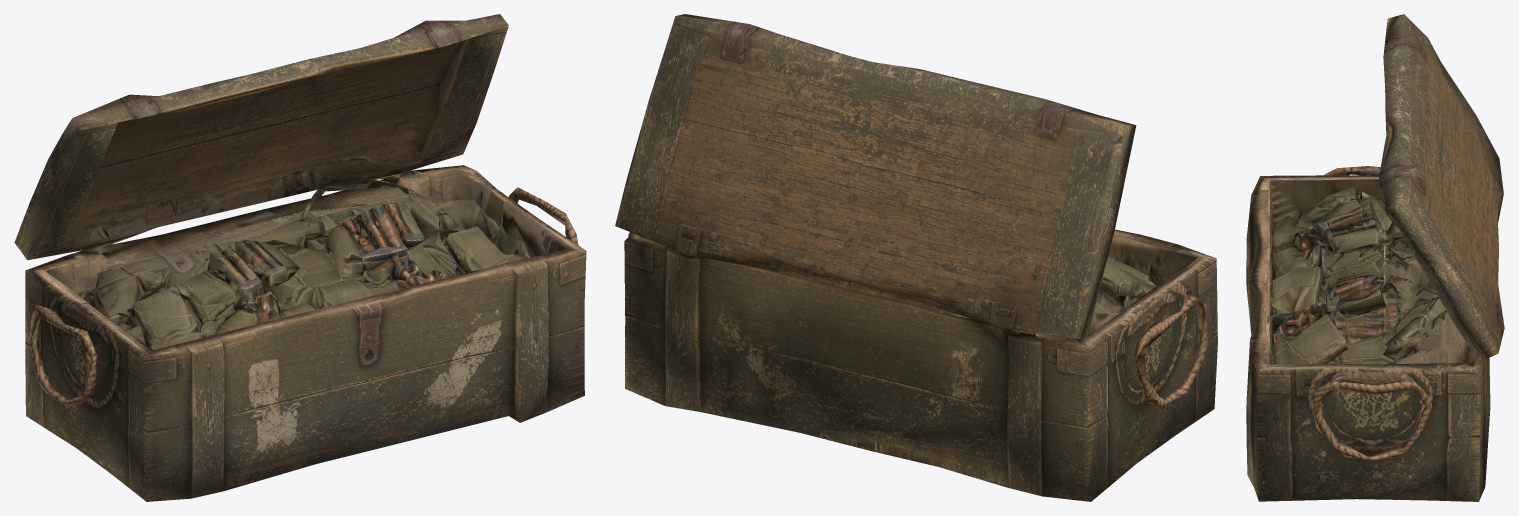
File: SM_PR_AmmoCrate_Varco.fbx
3 renders of one model, left to right at view 1: azimuth 30°, elevation 25°; view 2: azimuth 150°, elevation 25°; view 3: azimuth 270°, elevation 25°, orthographic. The views are drawn at different scales.
Parts seen in each view (by area): view 1: texture_mapping; view 2: texture_mapping; view 3: texture_mapping.
Part boxes in pixels (x1,y1,x2,y2): texture_mapping: [14, 14, 586, 501]; texture_mapping: [615, 14, 1217, 501]; texture_mapping: [1246, 14, 1504, 501].
Size of the model in its own units: 0.9903 by 0.4881 by 0.6459.
1 material, 1 textured.
